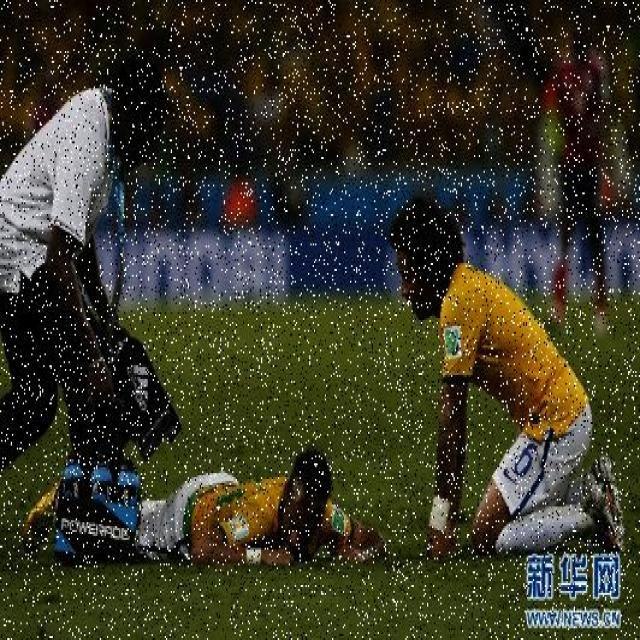fall: (36, 458, 376, 560)
